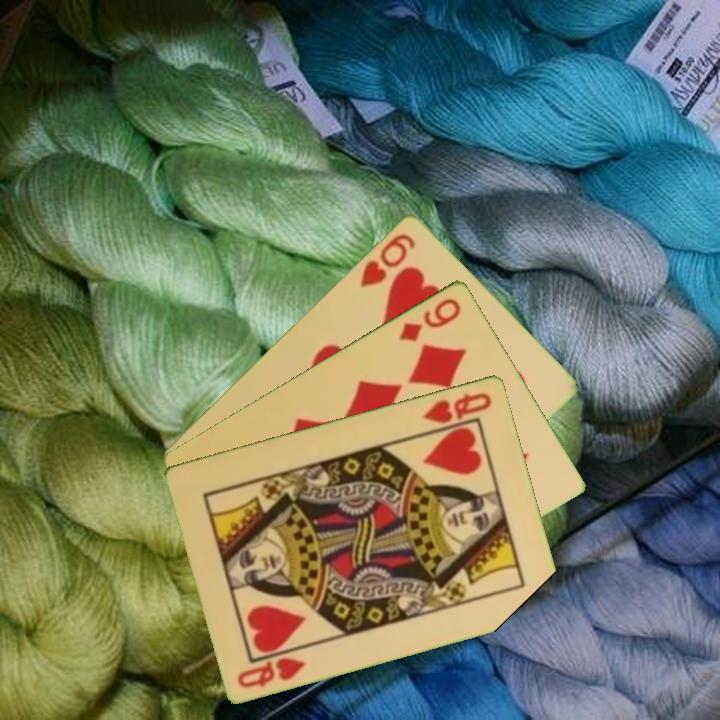6h: (356, 229, 418, 290)
9d: (395, 293, 464, 344)
Qh: (419, 388, 495, 426), (234, 653, 309, 691)
